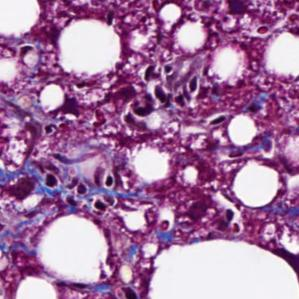inflammation: (127, 64, 210, 122), (39, 165, 128, 210)
